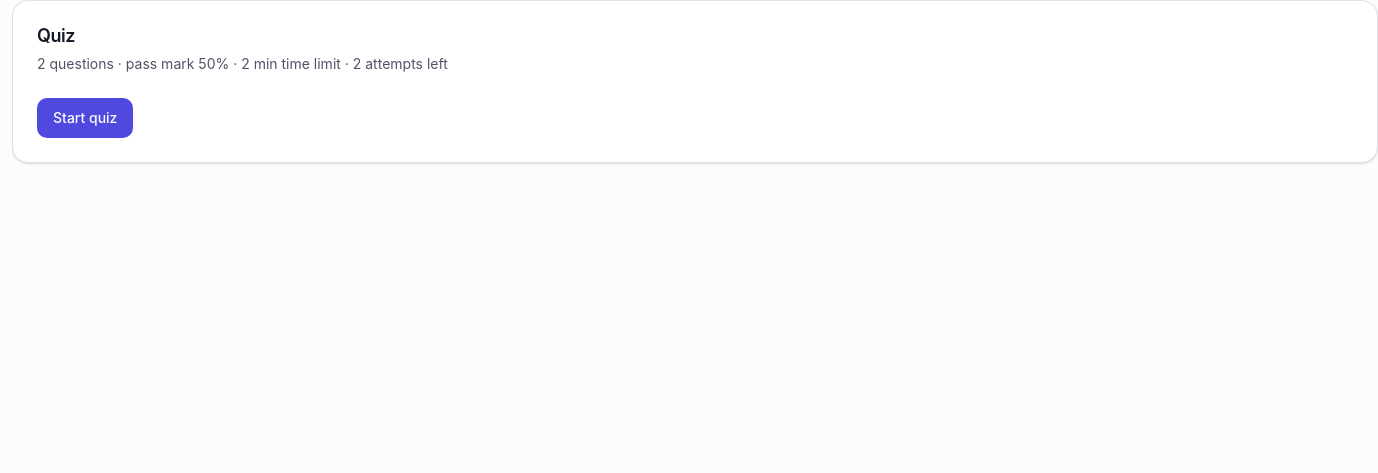
Test: quiz player › runs an attempt and shows the graded review with explanations
Expected: the text "2 questions · pass mark 50% · 2 min time limit · 2 attempts left" is shown, [37, 54, 448, 72]
Click the button "Start quiz".
click(85, 118)  # box [37, 98, 133, 138]
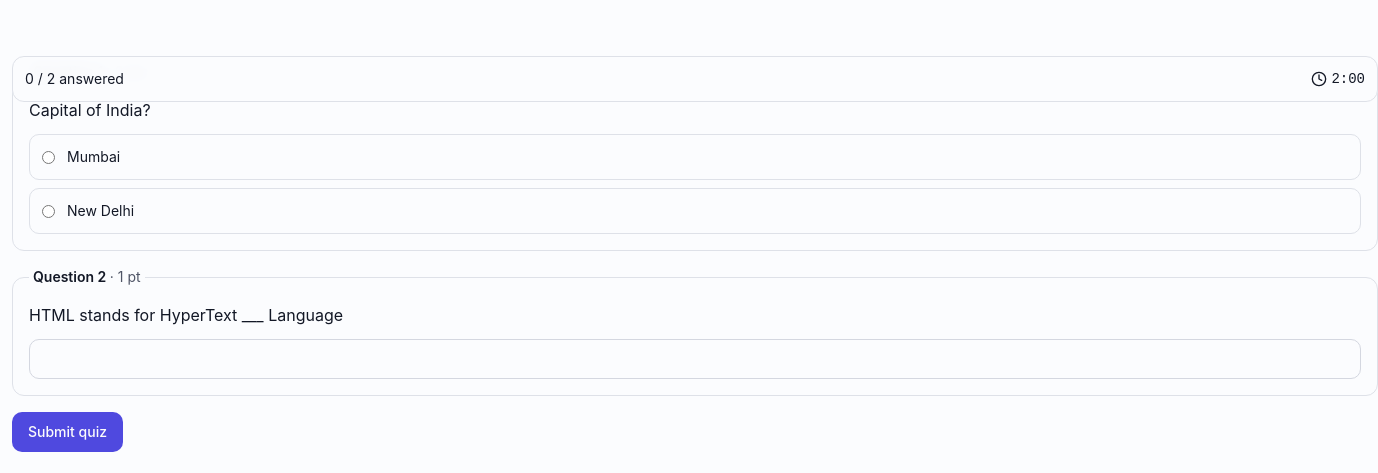
Expected: the element showing "2:00" is shown, [1311, 69, 1365, 89]
Click the radio button labelled "New Delhi".
click(48, 211)  # box [42, 204, 55, 218]
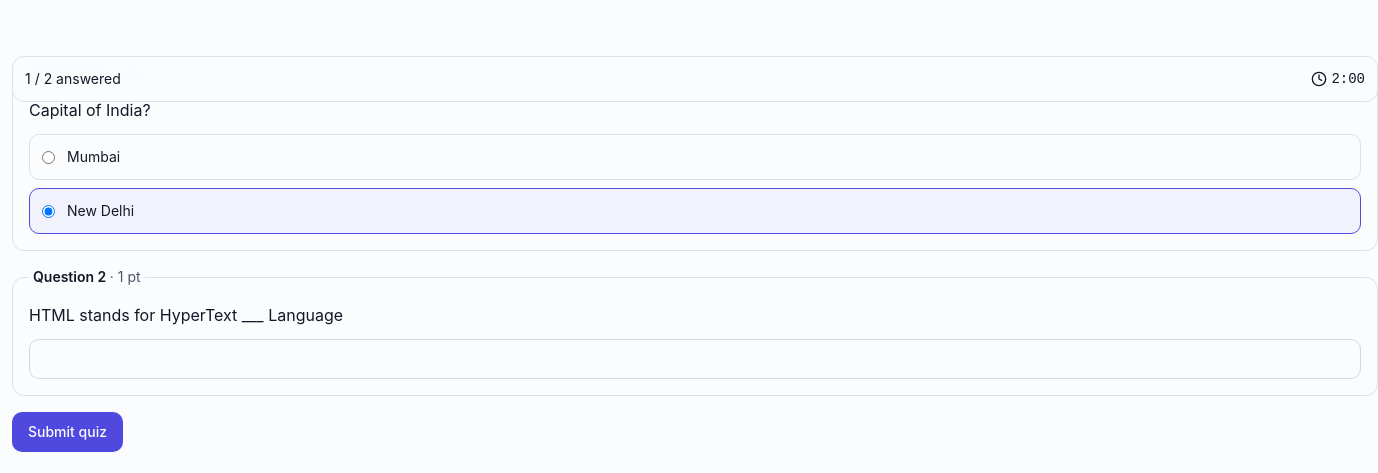
Type "Machine" into the field named "Answer to question 2".
click(695, 359); type("Machine")  # box [29, 339, 1361, 379]
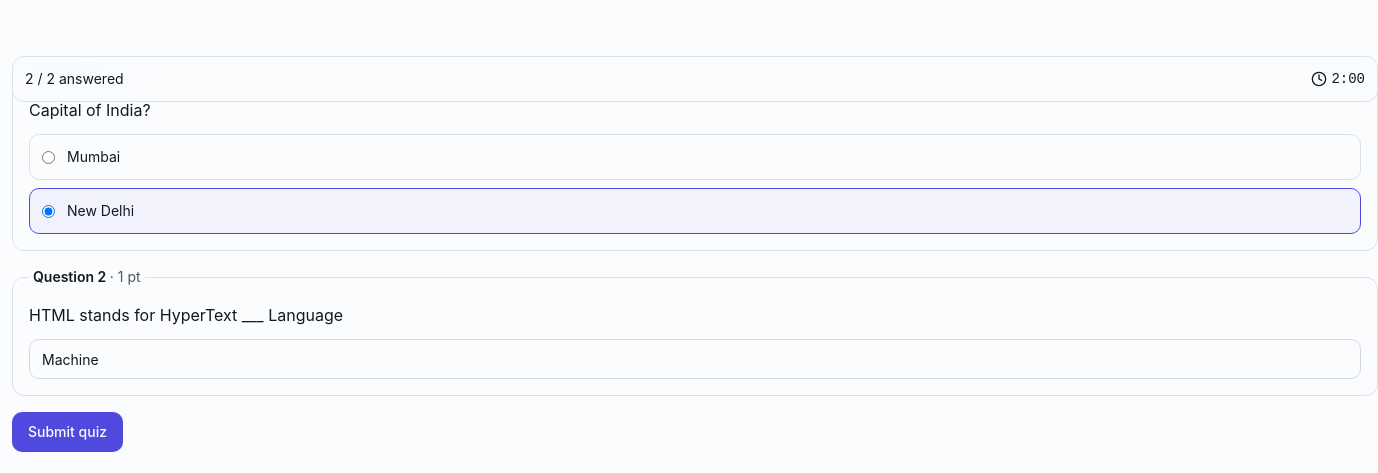
Click the button "Submit quiz".
click(68, 432)  # box [12, 412, 123, 452]
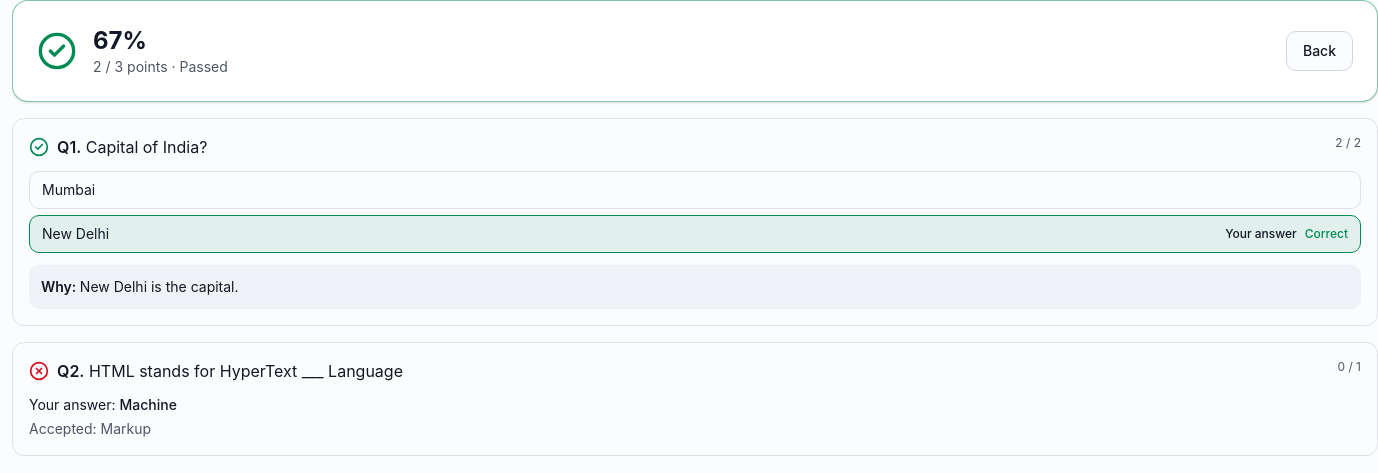
Expected: the text "67%" is shown, [93, 26, 147, 55]
Expected: the text "New Delhi is the capital." is shown, [80, 278, 239, 295]
Expected: the text "Accepted: Markup" is shown, [29, 420, 151, 437]
